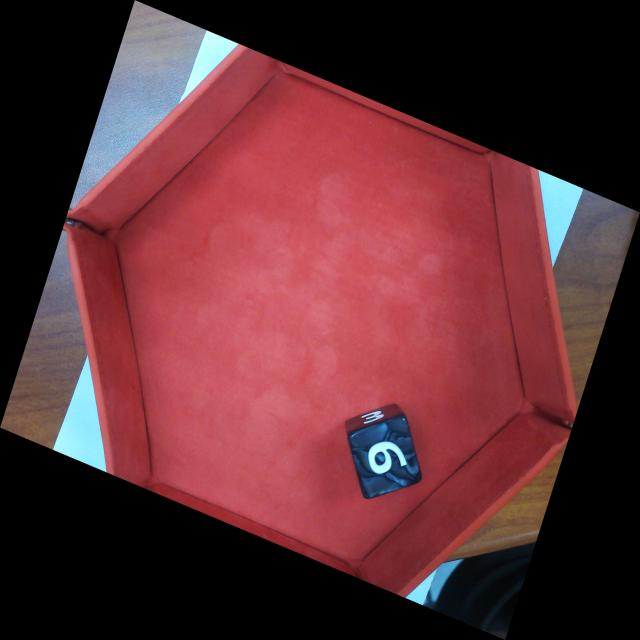dice: (347, 412, 426, 505)
